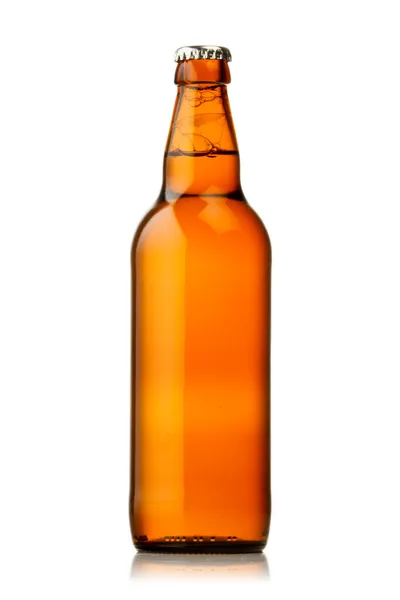glass_bottle: (101, 28, 313, 572)
